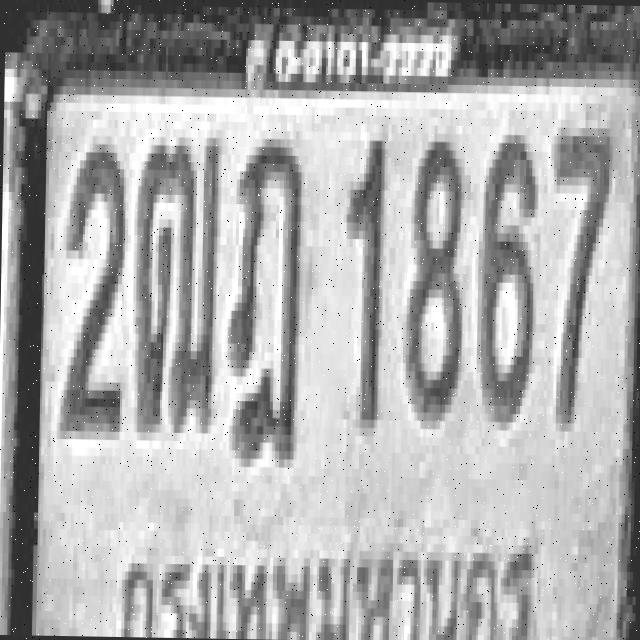1: (342, 132, 384, 428)
2: (61, 135, 125, 431)
23DorChaDa: (226, 130, 304, 459)
27ThorPhuThao: (132, 132, 220, 429)
6: (477, 130, 538, 418)
7: (550, 128, 612, 424)
8: (404, 137, 464, 417)
Bangkok: (118, 521, 541, 640)
